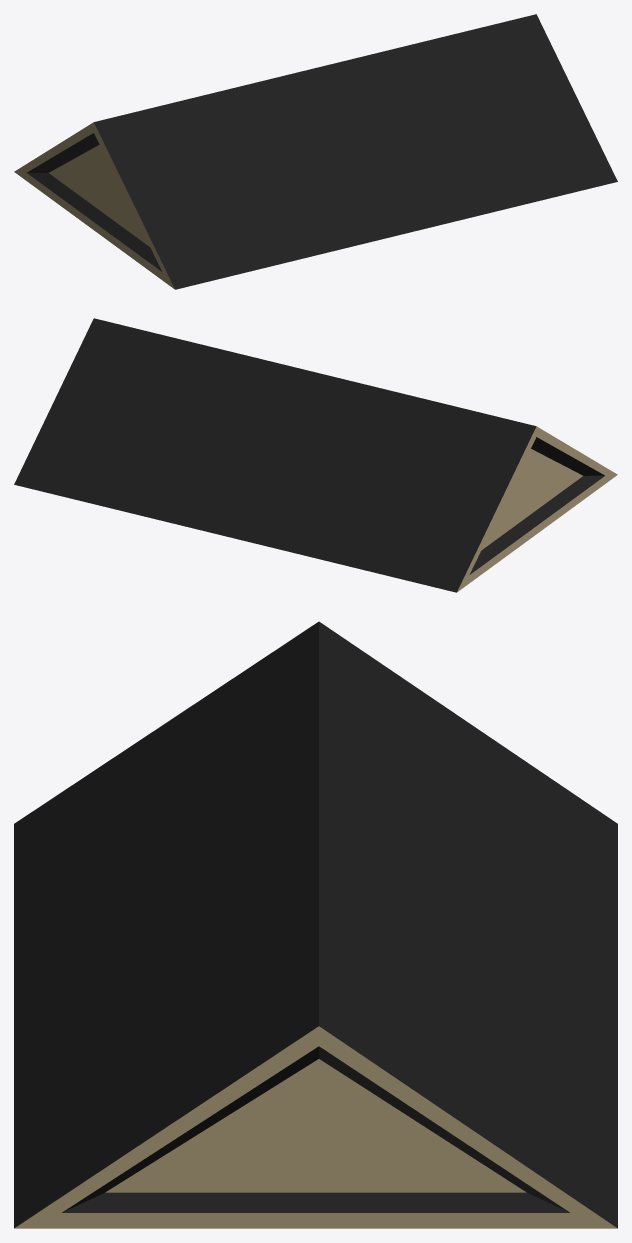
File: roof2.fbx
The picture shows the model from 3 angles, top to bottom: view 1: azimuth 30°, elevation 25°; view 2: azimuth 150°, elevation 25°; view 3: azimuth 270°, elevation 25°; orthographic projection. The views are drawn at different scales.
Visible parts, largest first — view 1: Cube.010; view 2: Cube.010; view 3: Cube.010.
Part boxes in pixels (left/top/right/bottom): Cube.010: left=14, top=14, right=617, bottom=289; Cube.010: left=14, top=318, right=617, bottom=592; Cube.010: left=14, top=621, right=617, bottom=1228.
Bounding box in the file's own units: 1427 × 333 × 900.
